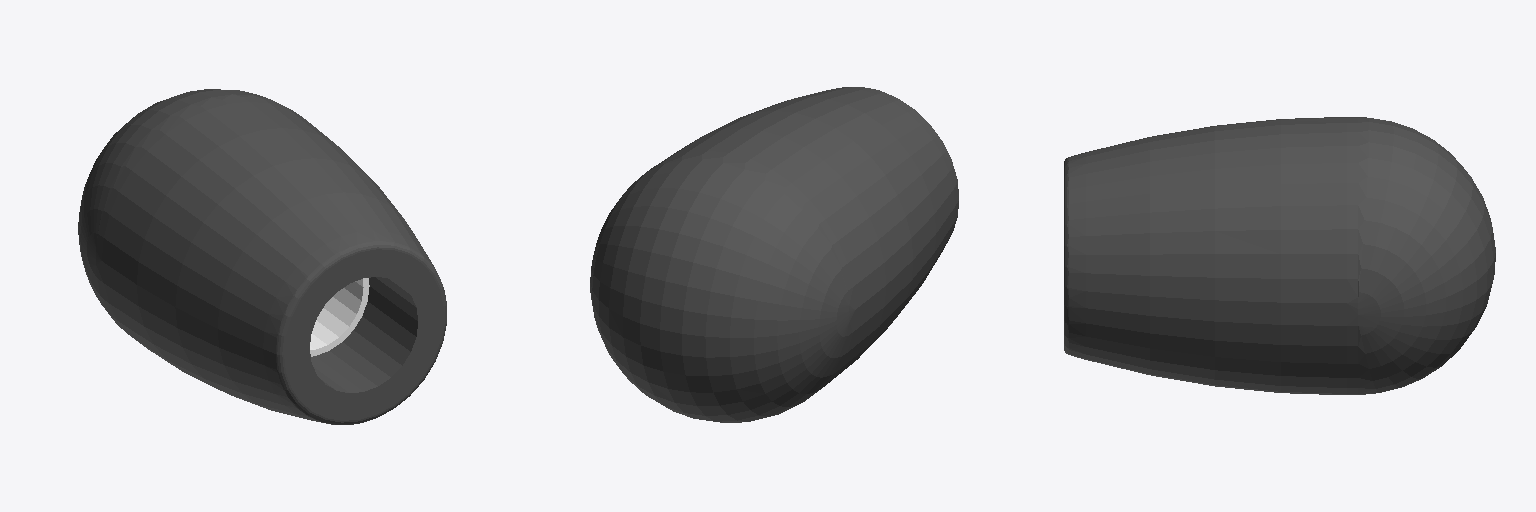
File: ganter_gn_719_1-20-b8.obj
3 views of the same model, side by side, from view 1: azimuth 30°, elevation 25°; view 2: azimuth 150°, elevation 25°; view 3: azimuth 270°, elevation 25° (orthographic).
Parts seen in each view (by area): view 1: ganter_gn_719_1-20-b8_1; view 2: ganter_gn_719_1-20-b8_1; view 3: ganter_gn_719_1-20-b8_1.
Boxes of the visible parts, box(x1,y1,x2,y2) form: ganter_gn_719_1-20-b8_1: box(78, 89, 446, 424); ganter_gn_719_1-20-b8_1: box(590, 87, 958, 422); ganter_gn_719_1-20-b8_1: box(1064, 117, 1495, 394).
Bounding box in the file's own units: 20 × 19.99 × 30.99.